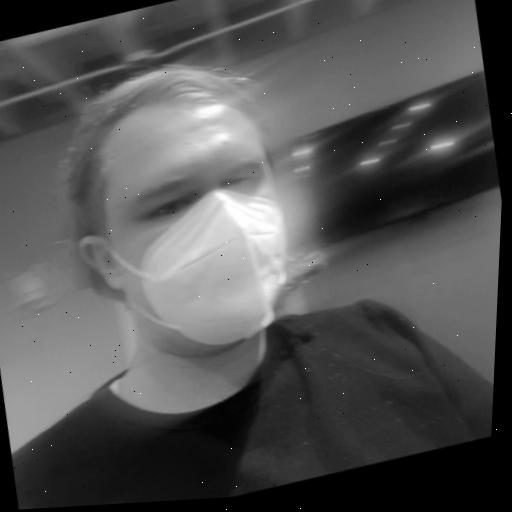mask: (11, 21, 348, 445)
